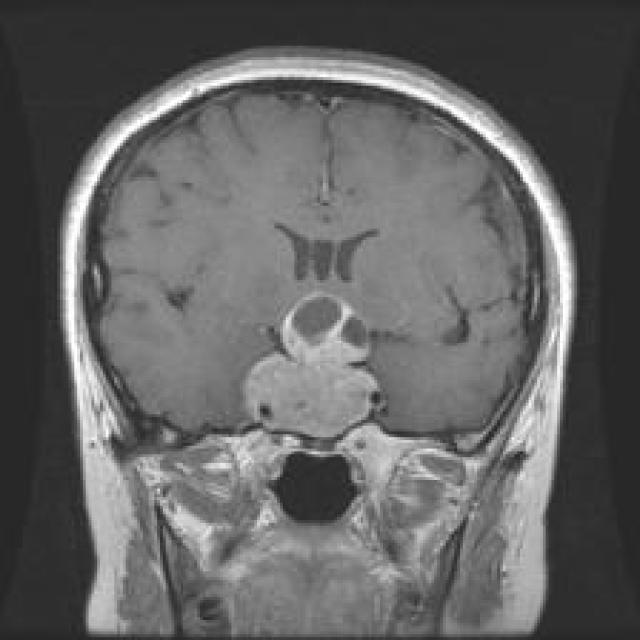pituitary_tumor: (235, 284, 384, 441)
